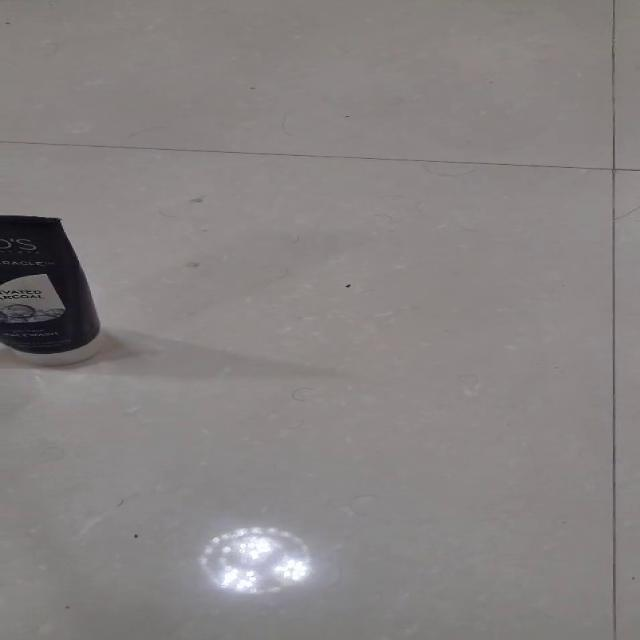plastic: (0, 214, 103, 366)
